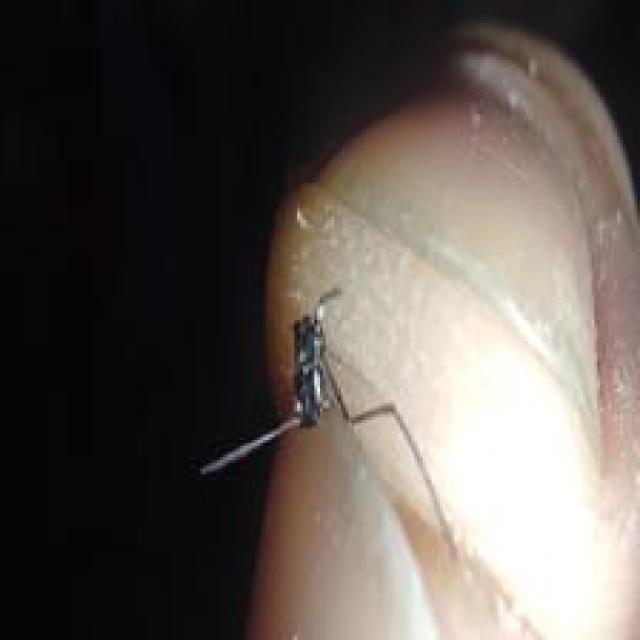Aedes albopictus: (197, 17, 640, 640)
